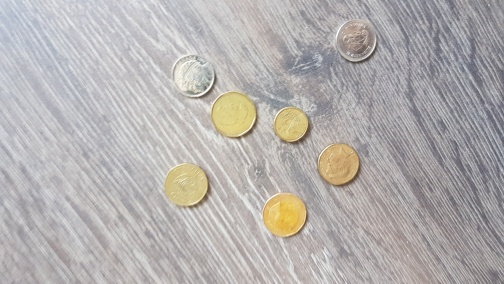coin: (210, 91, 257, 139), (262, 192, 308, 238), (164, 163, 209, 208), (317, 143, 361, 187), (172, 54, 215, 99), (336, 19, 378, 63), (273, 106, 310, 144)
